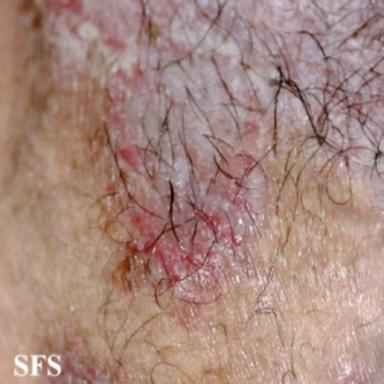Hailey-Hailey-Disease: (20, 1, 384, 304)
